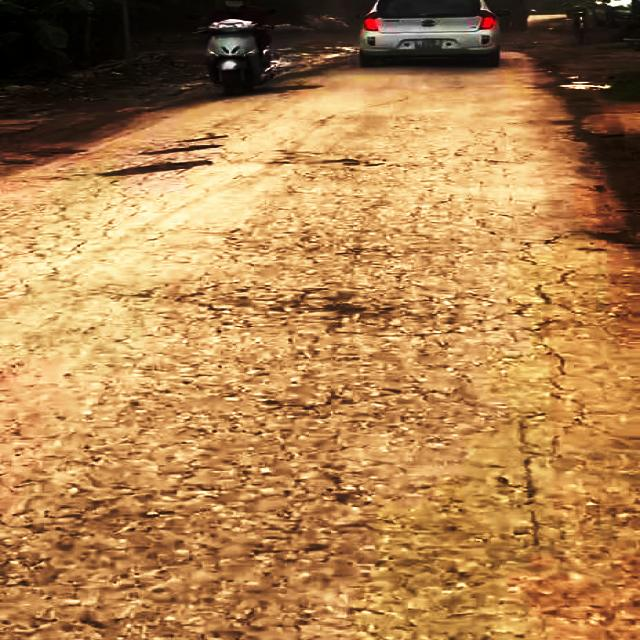pothole: (95, 158, 221, 179)
